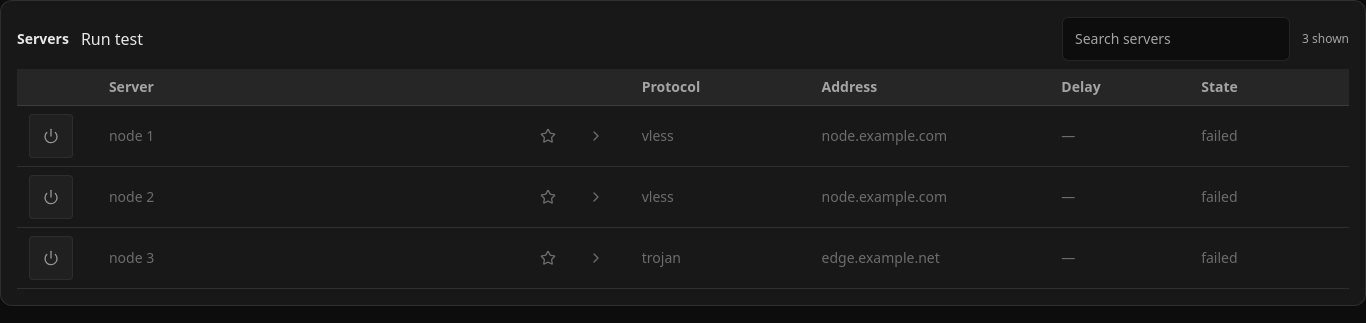
Test: Servers probe controls › searches address and protocol as well as remarks
The width and height of the screenshot is (1366, 323).
Type "edge.example" into the search field labelled "Search servers" at [1176, 39], box [1062,17,1290,61]
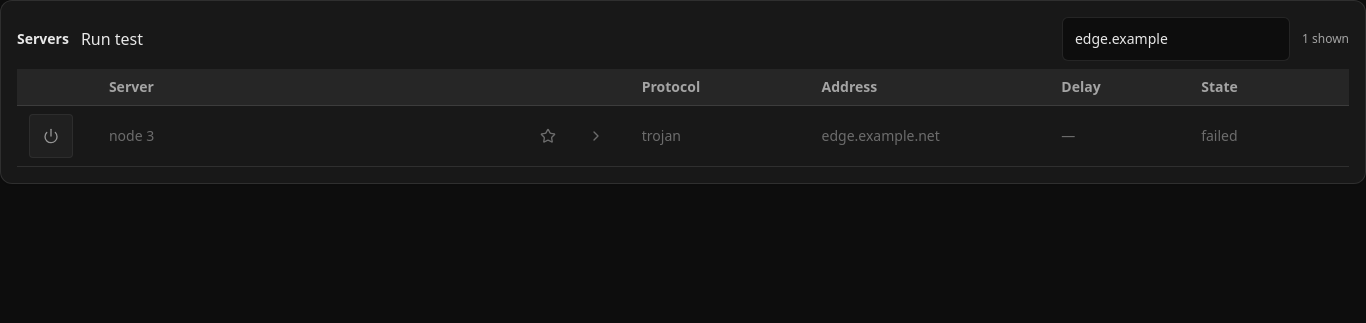
Expected: the number of rows with test id "server-row" is 1, [17,106,1349,166]
Replace the text in the search field named "Search servers" with "VLESS" at [1176, 39], box [1062,17,1290,61]
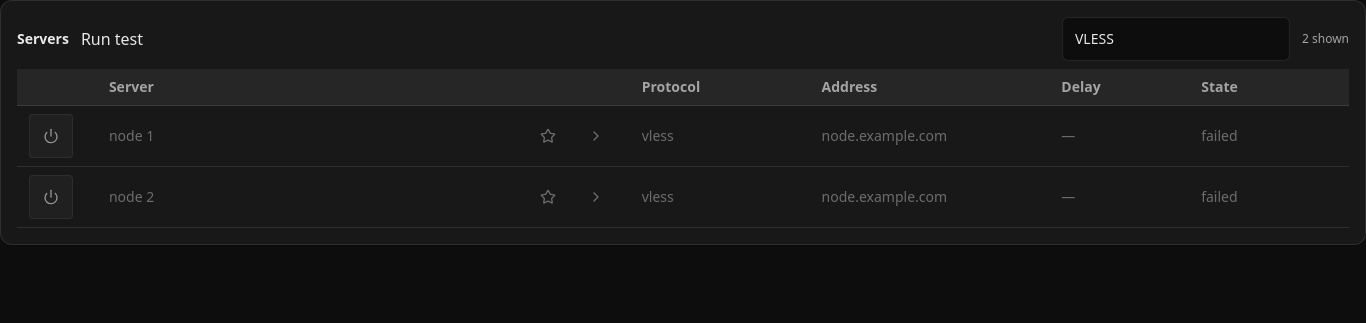
Expected: the number of rows with test id "server-row" is 2, [17,106,1349,166]; [17,166,1349,228]
